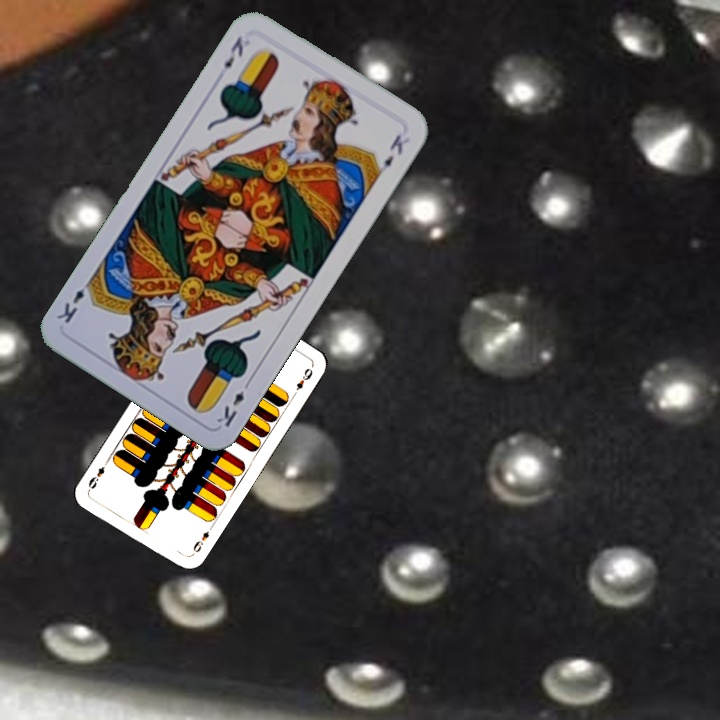E9: (187, 523, 215, 559)
EK: (212, 375, 254, 430), (219, 32, 246, 71)
